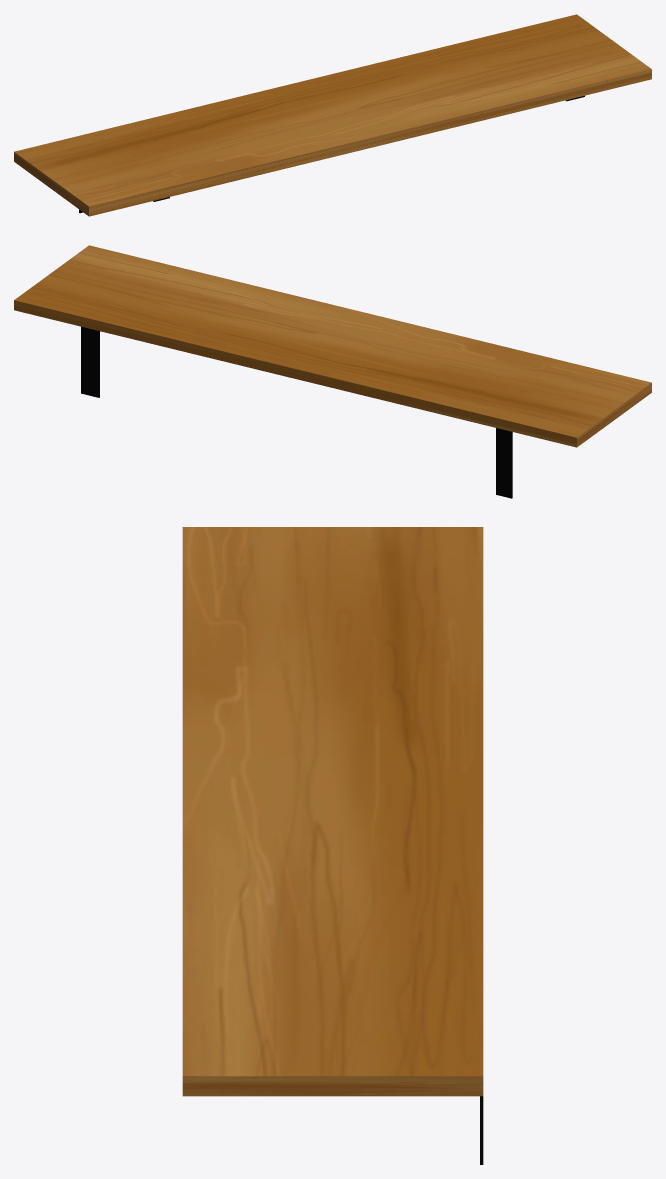
Rendered from shelf.fbx.
3 views of the same model, one above another, from view 1: azimuth 30°, elevation 25°; view 2: azimuth 150°, elevation 25°; view 3: azimuth 270°, elevation 25° (orthographic). The views are drawn at different scales.
Parts seen in each view (by area): view 1: pCube14; view 2: pCube14; view 3: pCube14.
Boxes of the visible parts, x1,y1,x2,y2 form: pCube14: (14,14,651,216); pCube14: (14,245,651,498); pCube14: (182,527,483,1164).
Bounding box in the file's own units: 18.15 × 2.37 × 4.19.
2 materials, 1 textured.
